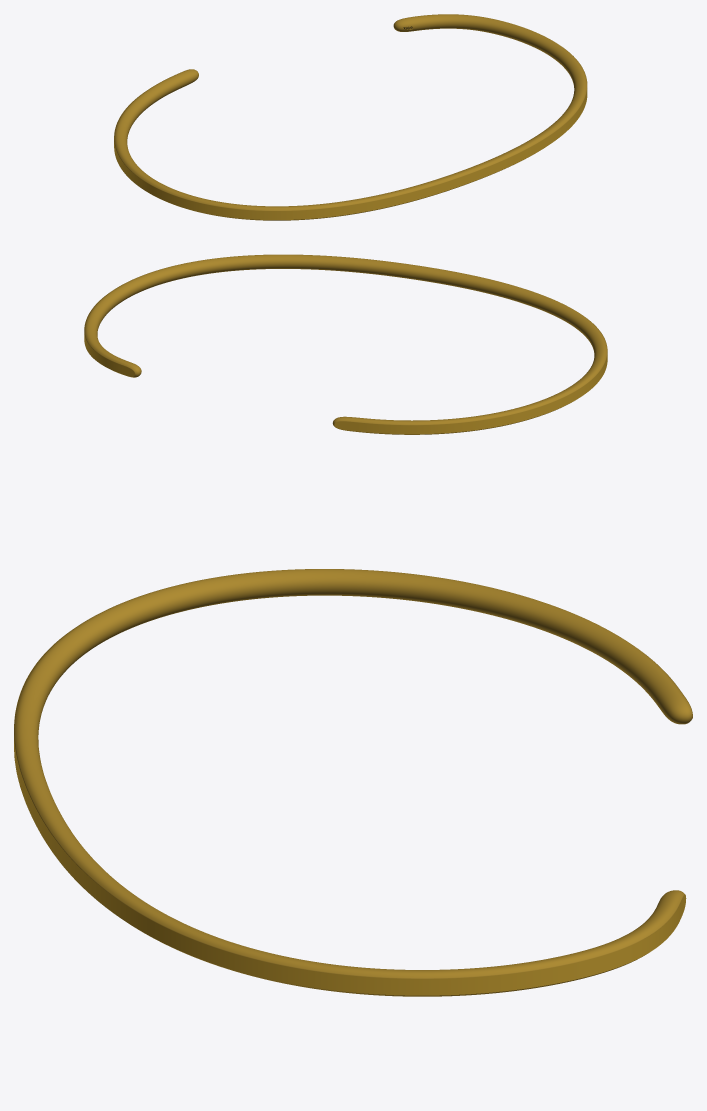
The model's file is bangleLight-yellowGold.glb.
The picture shows the model from 3 angles, top to bottom: view 1: azimuth 30°, elevation 25°; view 2: azimuth 150°, elevation 25°; view 3: azimuth 270°, elevation 25°; orthographic projection. The views are drawn at different scales.
Parts seen in each view (by area): view 1: a.001, a.002; view 2: a.001, a.002; view 3: a.001, a.002.
Part boxes in pixels (bbox=[...]): a.001: bbox=[114, 14, 587, 220]; a.002: bbox=[114, 52, 587, 219]; a.001: bbox=[84, 254, 607, 434]; a.002: bbox=[84, 300, 607, 434]; a.001: bbox=[14, 569, 692, 996]; a.002: bbox=[14, 633, 692, 995].
Size of the model in its own units: 5.06 by 0.0997 by 2.39.
3 materials, 2 textured.
